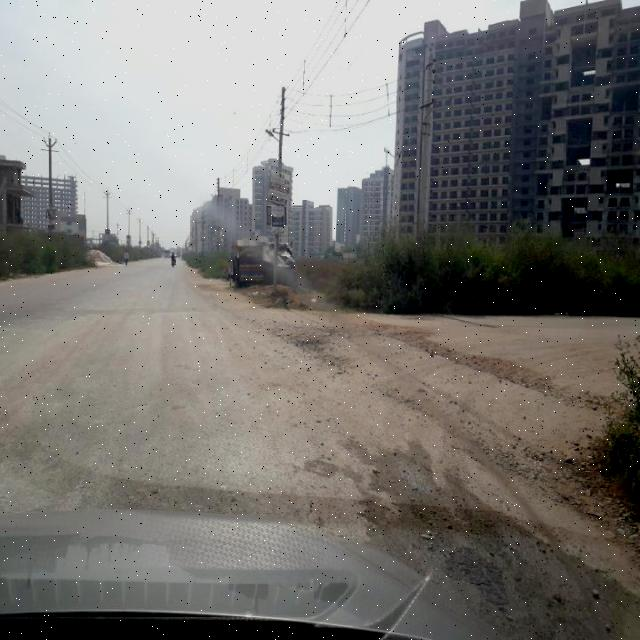D40: (382, 324, 604, 396)
